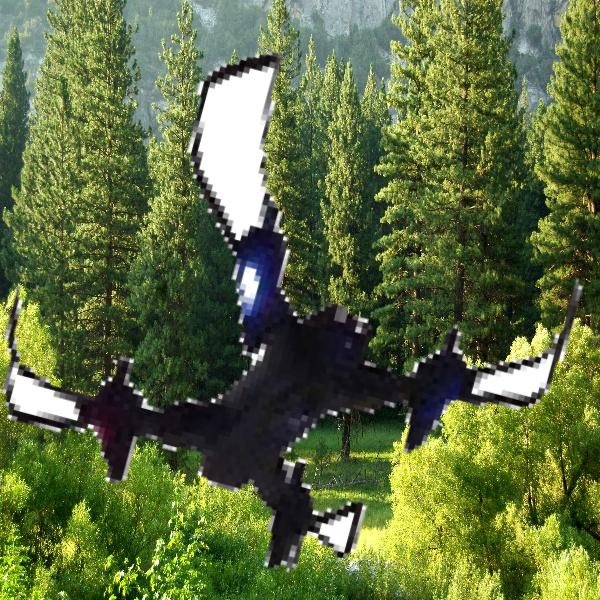drone: (12, 9, 596, 593)
